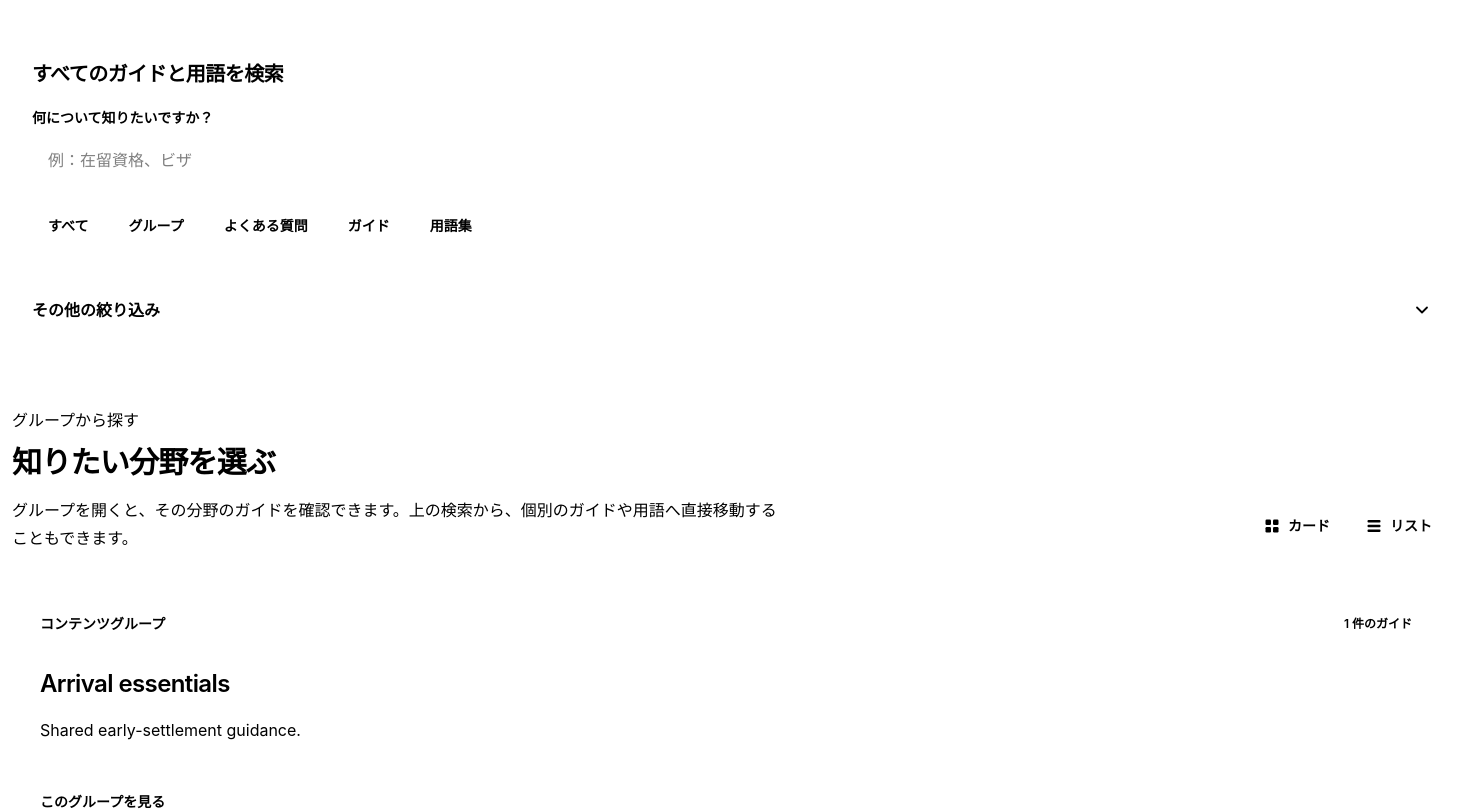
Scenario: ExploreDiscovery › presents a Japanese pilot result from a Japanese query
Type "銀行口座" into the search field at (732, 160), box x1=32 y1=136 x2=1432 y2=184
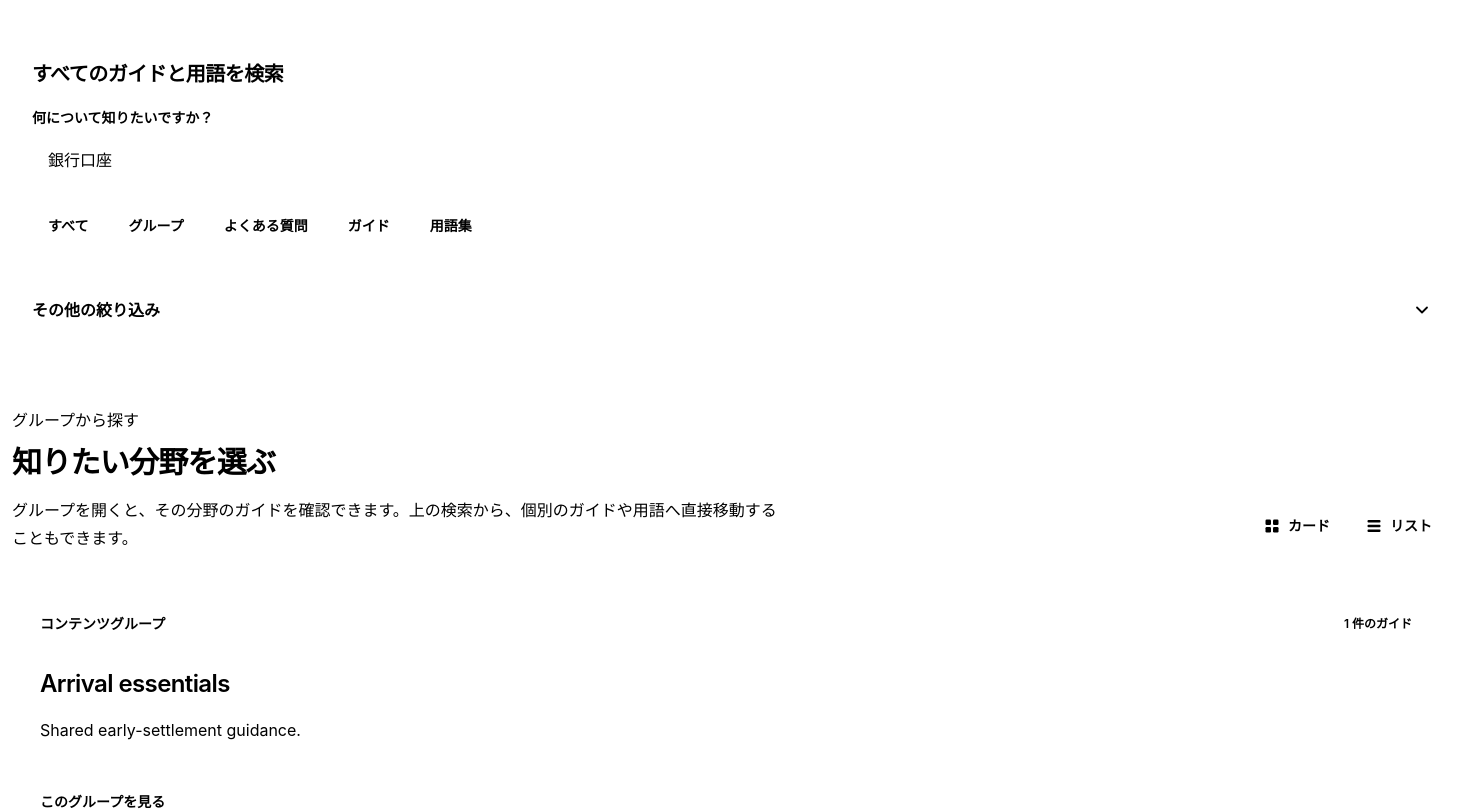
Leave the search field, box x1=32 y1=136 x2=1432 y2=184
(page scrolled)
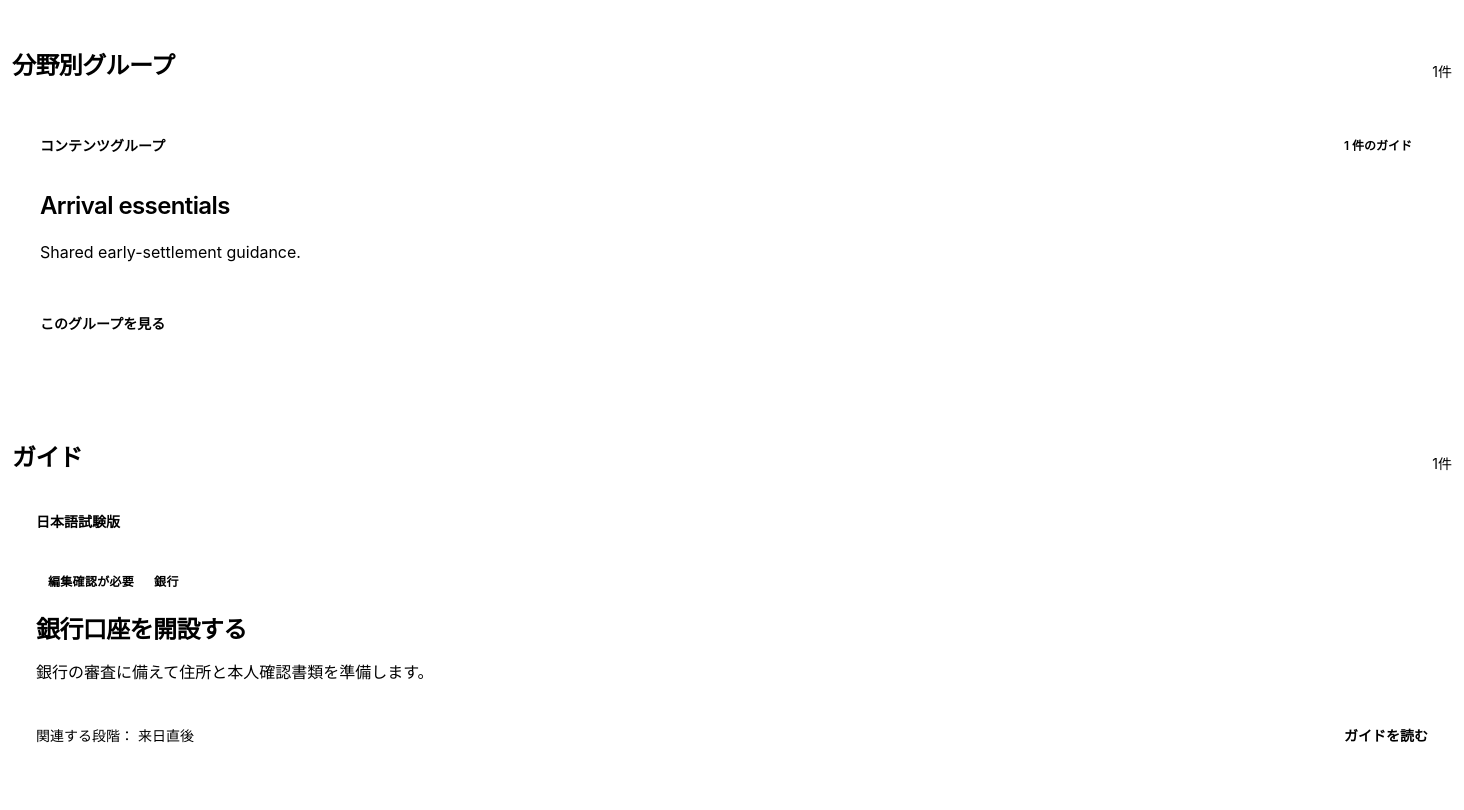
Check: the link "銀行口座を開設する" is shown, box x1=36 y1=615 x2=247 y2=644
Check: the text "日本語試験版" is shown, box x1=36 y1=513 x2=120 y2=530
